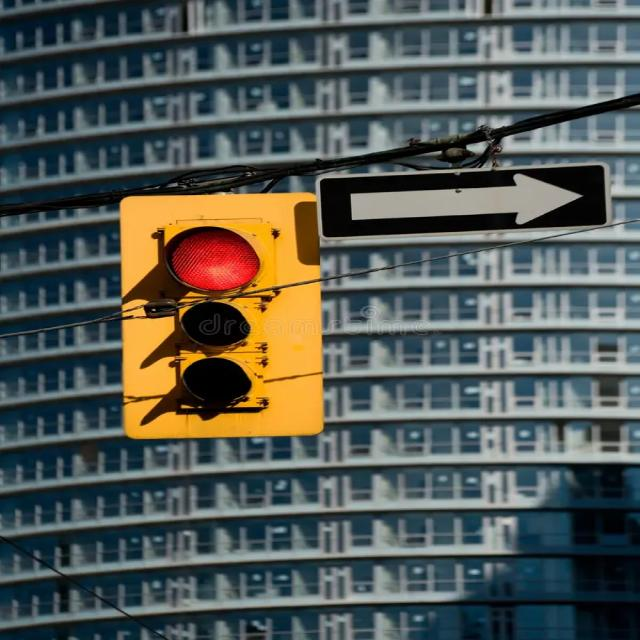red: (160, 214, 289, 306)
